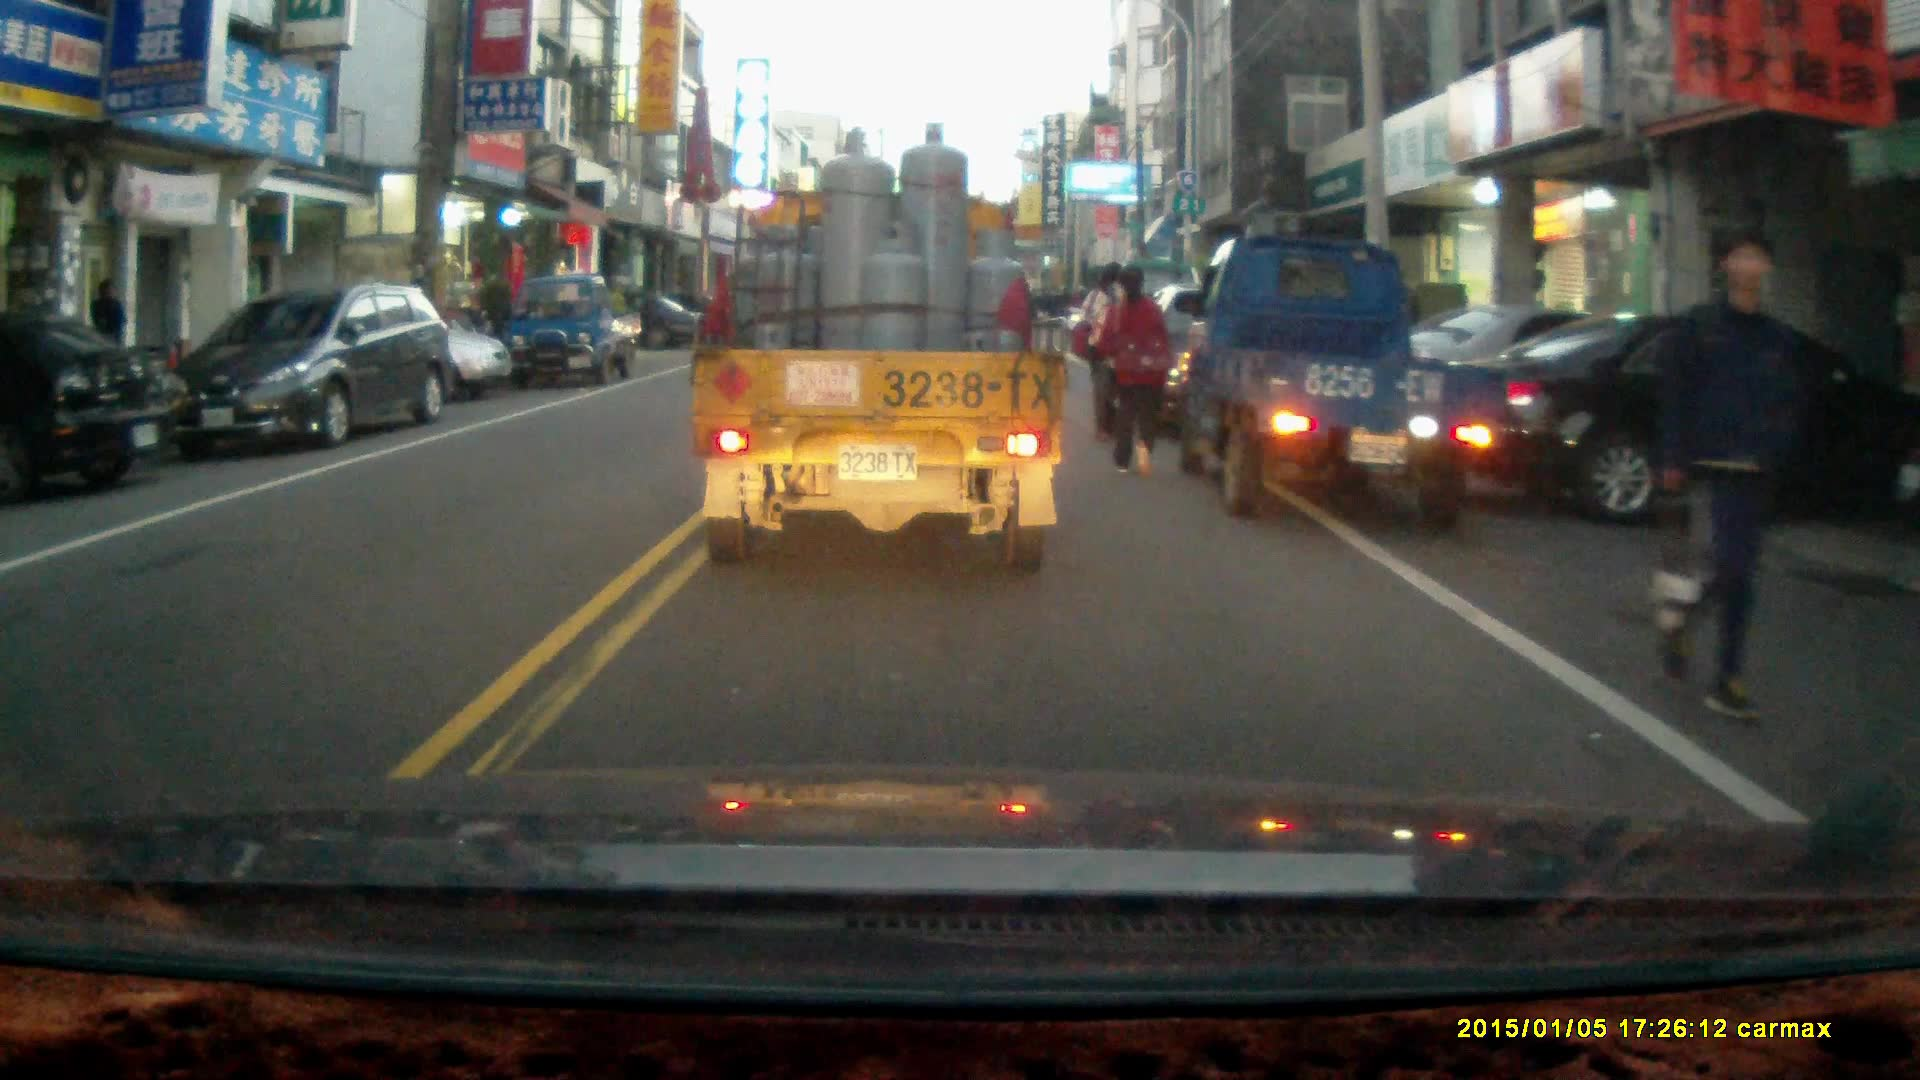pedestrian: (1649, 228, 1808, 727), (1096, 259, 1175, 476), (1077, 259, 1137, 437), (83, 274, 130, 384)
vehicle: (690, 124, 1068, 577), (1177, 235, 1510, 530), (159, 281, 458, 457), (1, 311, 182, 504), (248, 293, 512, 406), (503, 272, 640, 389)
